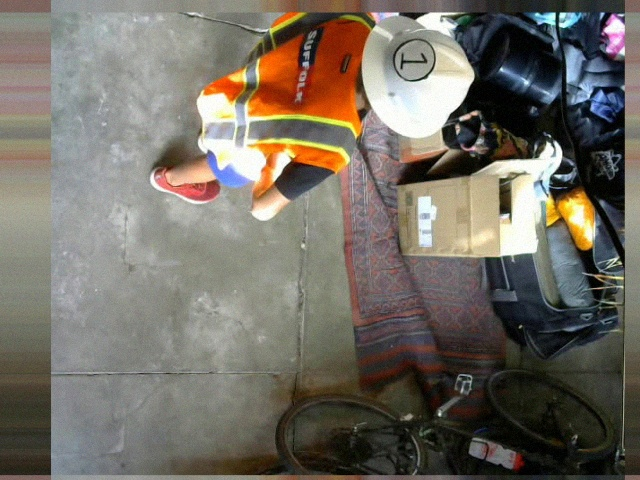one: (392, 38, 434, 80)
